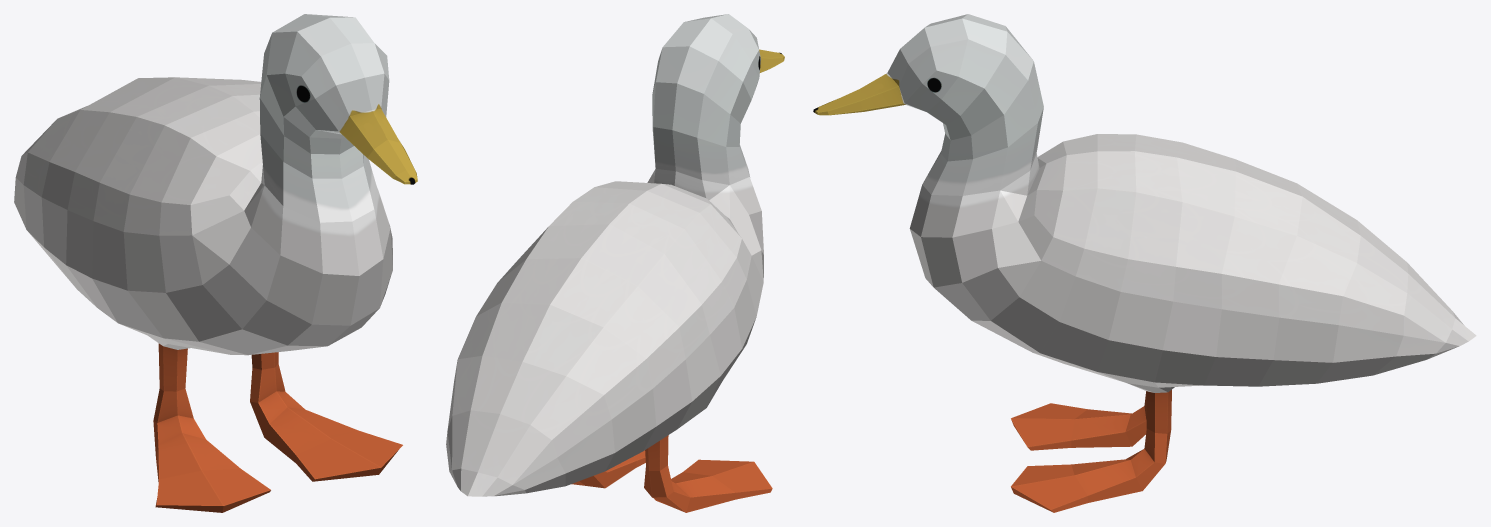
File: WhiteDuck.glb
The picture shows the model from 3 angles, left to right: view 1: azimuth 30°, elevation 25°; view 2: azimuth 150°, elevation 25°; view 3: azimuth 270°, elevation 25°; orthographic projection. The views are drawn at different scales.
Visible parts, largest first — view 1: MallardDuck; view 2: MallardDuck; view 3: MallardDuck.
Boxes of the visible parts, x1=… form: MallardDuck: x1=14, y1=14, x2=417, y2=512; MallardDuck: x1=446, y1=14, x2=784, y2=512; MallardDuck: x1=813, y1=14, x2=1476, y2=512.
Size of the model in its own units: 0.9816 by 1.87 by 2.55.
Materials: 1 (1 with a texture image).
